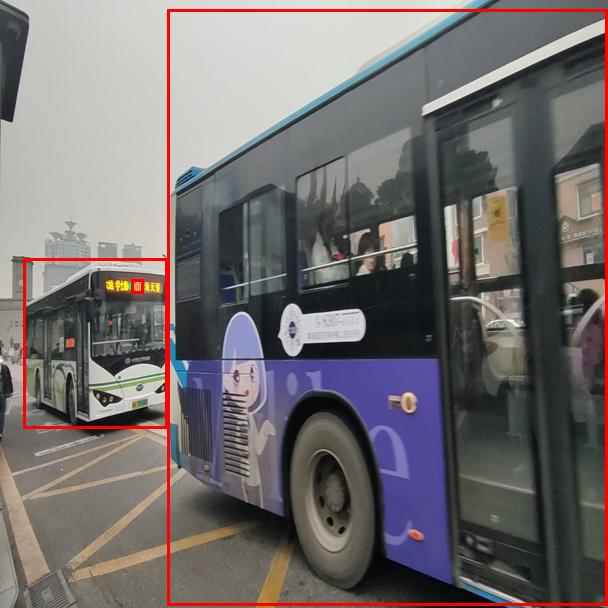bus: (167, 9, 607, 605), (23, 258, 167, 428)
screen: (131, 279, 143, 293)
